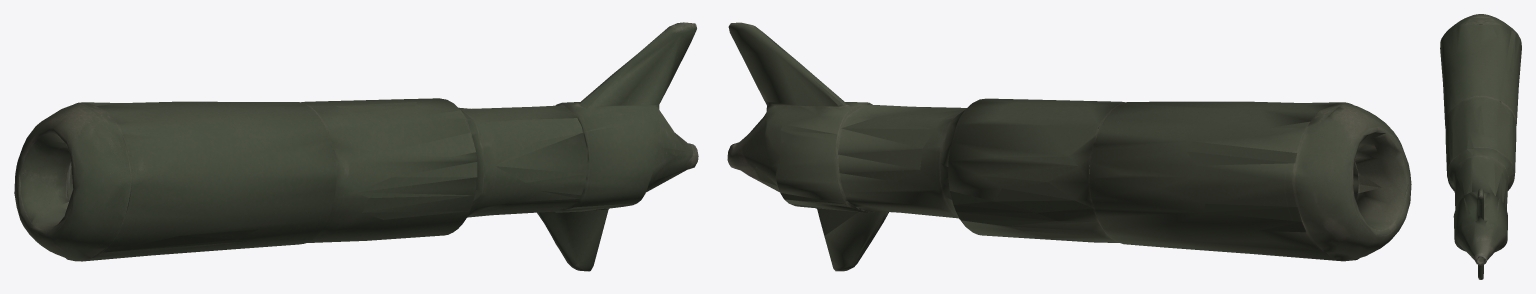
File: Rocket.glb
3 views of the same model, side by side, from view 1: azimuth 30°, elevation 25°; view 2: azimuth 150°, elevation 25°; view 3: azimuth 270°, elevation 25° (orthographic). The views are drawn at different scales.
Visible parts, largest first — view 1: output_unwrapped; view 2: output_unwrapped; view 3: output_unwrapped.
Part boxes in pixels (x1,y1,x2,y2): output_unwrapped: (14, 22, 698, 271); output_unwrapped: (727, 22, 1411, 271); output_unwrapped: (1440, 14, 1521, 279).
Size of the model in its own units: 0.2929 by 0.12 by 0.0627.
1 material, 1 textured.
